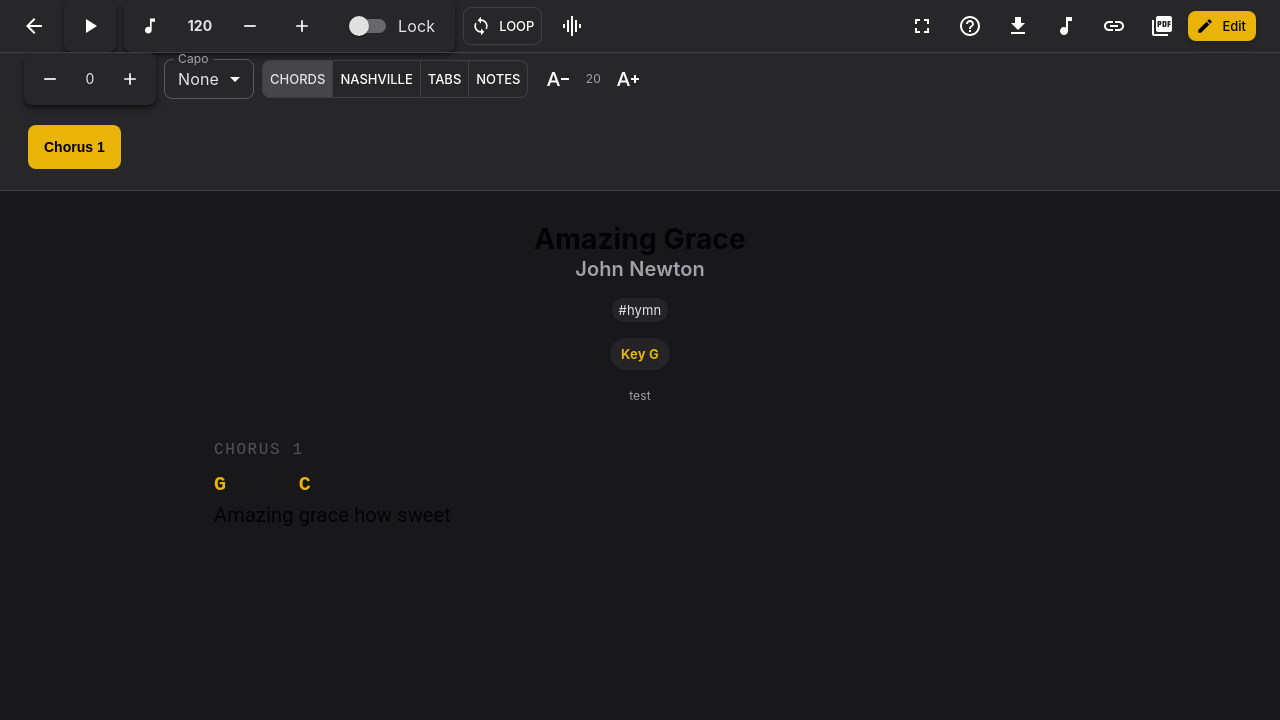
SongViewer › counts in on the beat rather than once a second
Click the button named "start auto-scroll" at (90, 26), box top-left (68, 4), bottom-right (112, 48)
Wait 1000 ms
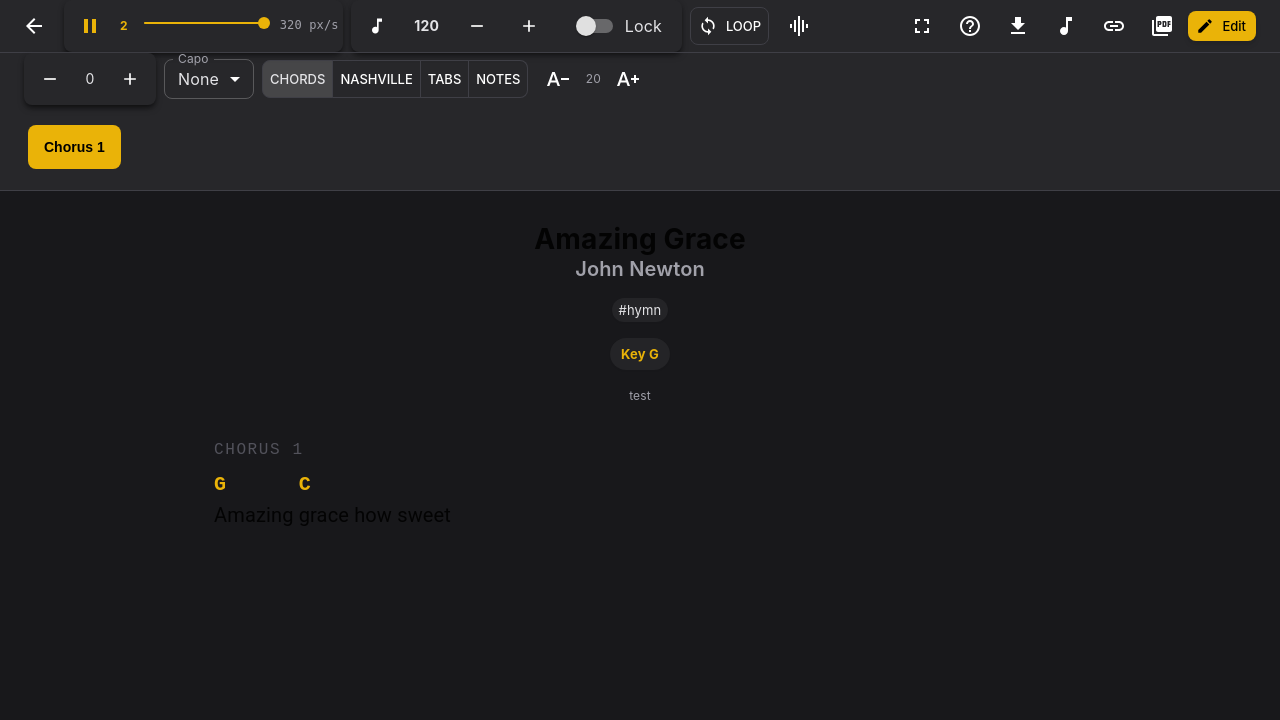
Check: the text "2" is shown, box top-left (120, 16), bottom-right (128, 36)
